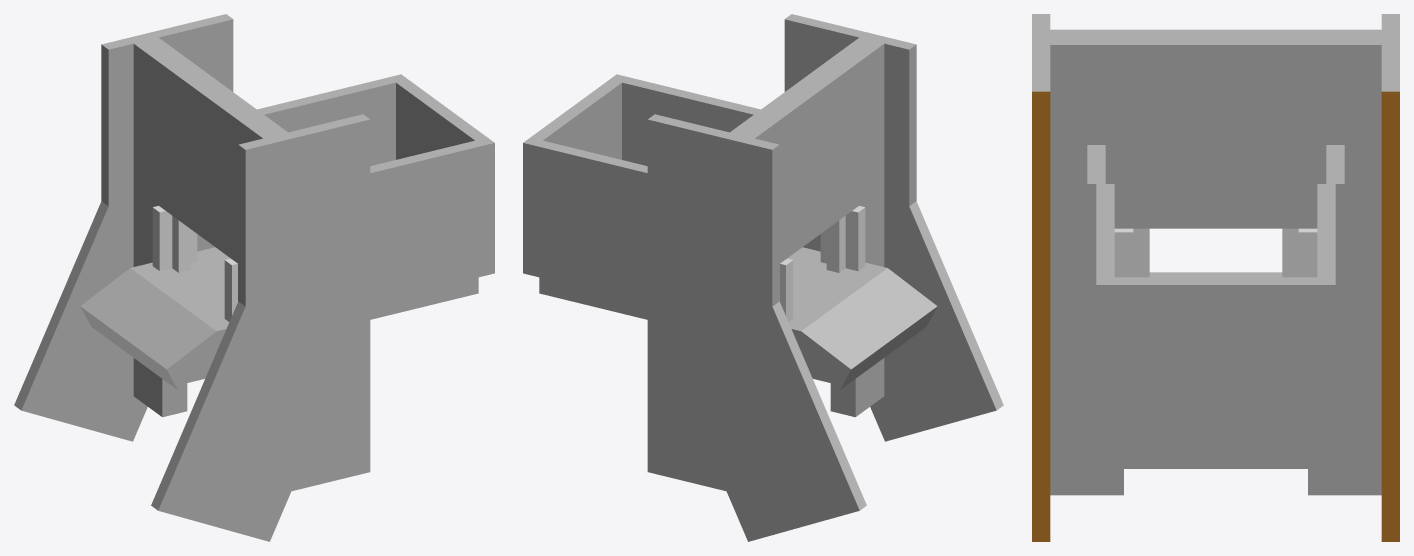
Rendered from wallDoorCol.glb.
3 views of the same model, side by side, from view 1: azimuth 30°, elevation 25°; view 2: azimuth 150°, elevation 25°; view 3: azimuth 270°, elevation 25° (orthographic). The views are drawn at different scales.
Parts seen in each view (by area): view 1: doorRSideCol, doorWallCol, doorRSideColAgl, elevatorWallR, doorLSideColAgl, doorLSideCol, elevatorRampCol, elevatorFloorCol, elevatorWallL, elevatorWall, doorWallLCol, doorWallRCol (+3 smaller); view 2: doorLSideCol, doorLSideColAgl, doorWallCol, elevatorWallL, doorRSideColAgl, doorRSideCol, elevatorRampCol, elevatorFloorCol, elevatorWallR, elevatorWall, doorWallRCol, doorFrameR (+2 smaller); view 3: doorWallCol, elevatorWall, doorWallLCol, doorWallRCol, doorLSideCol, doorRSideCol, elevatorWallL, elevatorWallR, elevatorFloorCol, elevatorShaftWallL, elevatorShaftWallR, doorFrameL (+3 smaller).
Boxes of the visible parts, bbox=[...] form: doorRSideCol: bbox=[238, 114, 370, 502]; doorWallCol: bbox=[127, 32, 295, 287]; doorRSideColAgl: bbox=[151, 286, 367, 541]; elevatorWallR: bbox=[370, 137, 494, 303]; doorLSideColAgl: bbox=[14, 201, 147, 441]; doorLSideCol: bbox=[101, 14, 233, 401]; elevatorRampCol: bbox=[80, 268, 221, 389]; elevatorFloorCol: bbox=[131, 247, 478, 347]; elevatorWallL: bbox=[257, 74, 407, 165]; elevatorWall: bbox=[396, 79, 487, 159]; doorWallLCol: bbox=[133, 187, 187, 417]; doorWallRCol: bbox=[238, 264, 295, 490]; doorLSideCol: bbox=[647, 114, 779, 502]; doorLSideColAgl: bbox=[650, 281, 866, 541]; doorWallCol: bbox=[723, 32, 890, 263]; elevatorWallL: bbox=[523, 137, 647, 303]; doorRSideColAgl: bbox=[870, 180, 1003, 441]; doorRSideCol: bbox=[784, 14, 916, 401]; elevatorRampCol: bbox=[796, 268, 937, 389]; elevatorFloorCol: bbox=[539, 247, 886, 340]; elevatorWallR: bbox=[610, 74, 760, 165]; elevatorWall: bbox=[530, 79, 621, 159]; doorWallRCol: bbox=[830, 187, 884, 417]; doorFrameR: bbox=[820, 206, 865, 270]; doorWallCol: bbox=[1032, 29, 1399, 228]; elevatorWall: bbox=[1114, 277, 1317, 451]; doorWallLCol: bbox=[1308, 228, 1381, 495]; doorWallRCol: bbox=[1050, 228, 1123, 495]; doorLSideCol: bbox=[1381, 14, 1399, 541]; doorRSideCol: bbox=[1032, 14, 1050, 541]; elevatorWallL: bbox=[1317, 184, 1335, 451]; elevatorWallR: bbox=[1096, 184, 1114, 451]; elevatorFloorCol: bbox=[1105, 272, 1326, 468]; elevatorShaftWallL: bbox=[1326, 145, 1344, 350]; elevatorShaftWallR: bbox=[1087, 145, 1105, 350]; doorFrameL: bbox=[1298, 228, 1317, 277].
Size of the model in its own units: 29 by 30.47 by 20.
